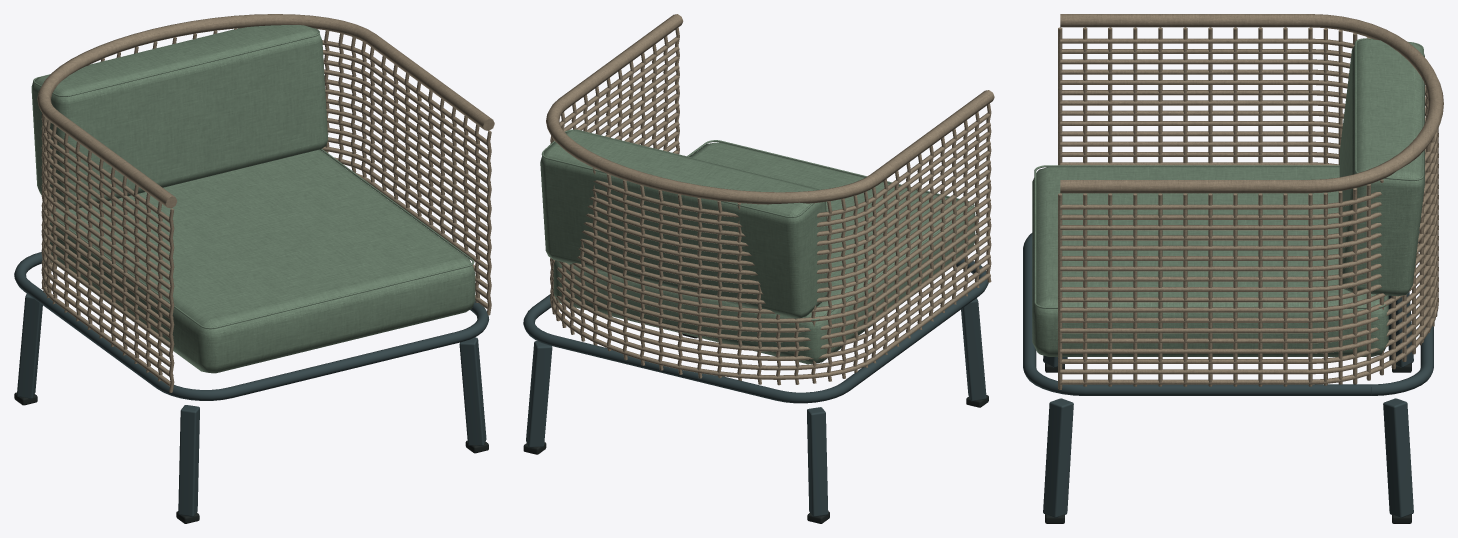
Rendered from outdoor-woven-club-chair.glb.
3 renders of one model, left to right at view 1: azimuth 30°, elevation 25°; view 2: azimuth 150°, elevation 25°; view 3: azimuth 270°, elevation 25°, orthographic. The views are drawn at different scales.
Visible parts, largest first — view 1: outdoor-woven-club-chair authored assembly; view 2: outdoor-woven-club-chair authored assembly; view 3: outdoor-woven-club-chair authored assembly.
Boxes of the visible parts, x1,y1,x2,y2 form: outdoor-woven-club-chair authored assembly: (14, 14, 494, 523); outdoor-woven-club-chair authored assembly: (523, 14, 994, 523); outdoor-woven-club-chair authored assembly: (1023, 14, 1443, 523).
Size of the model in its own units: 0.88 by 0.83 by 0.91.
Materials: 4 (2 with a texture image).
